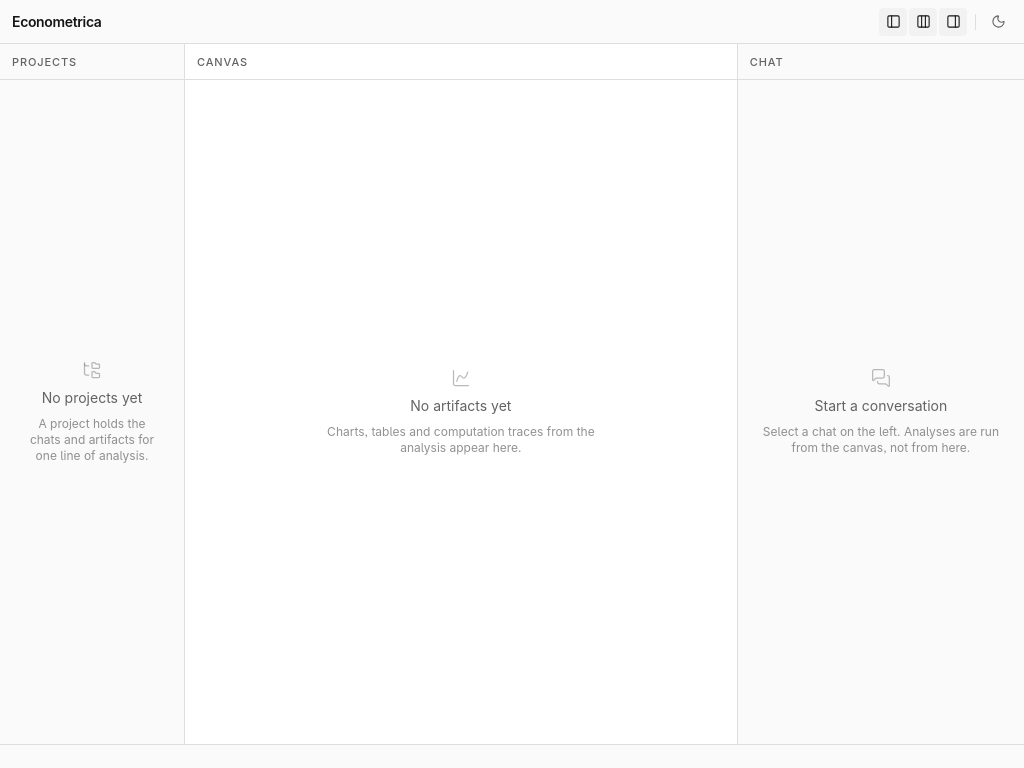
Scenario: AppShell › collapses the projects pane when the toggle is clicked
Click the button named "collapse projects".
click(893, 22)  # box [879, 8, 907, 36]
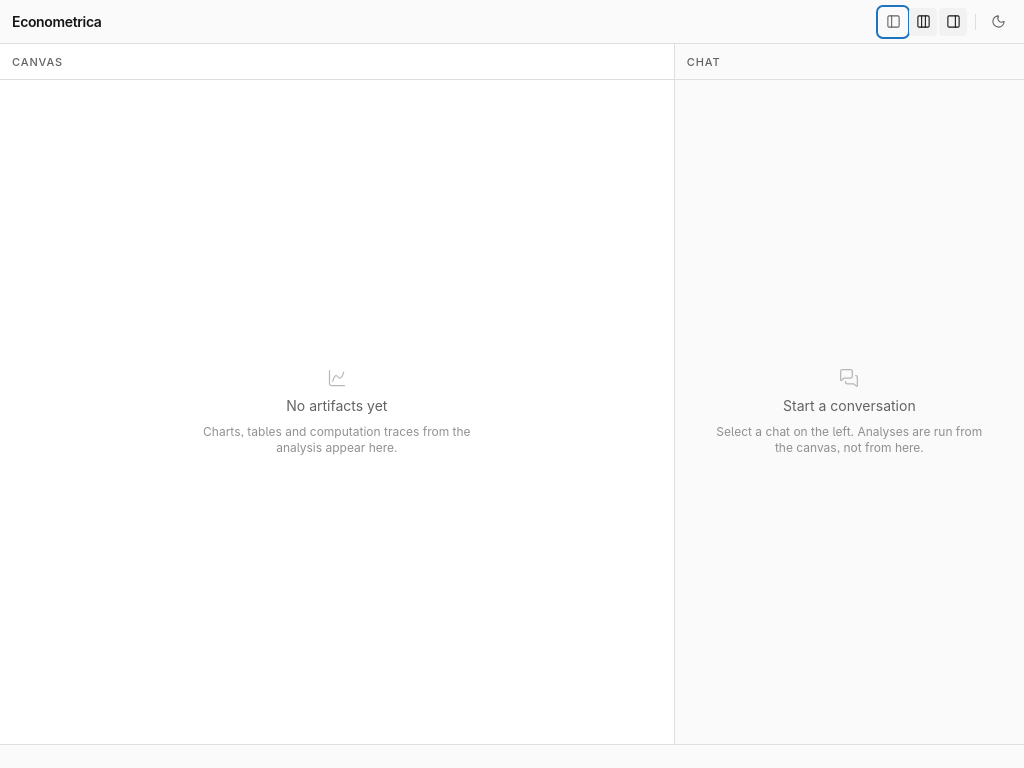
expect the heading "Projects" is gone: met
